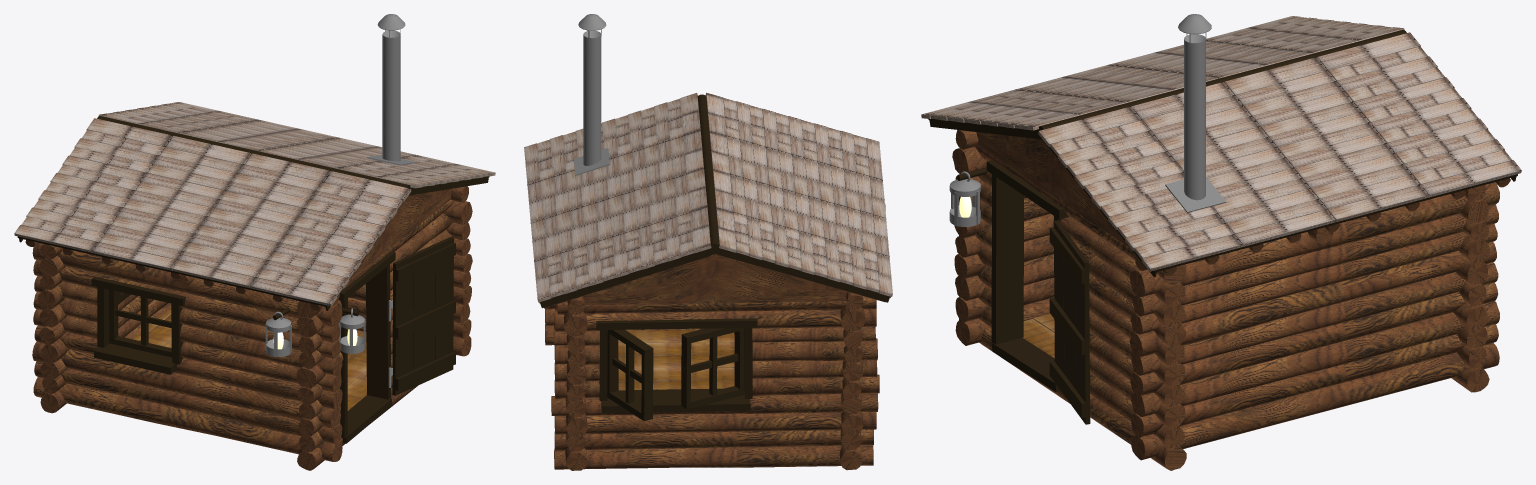
Rendered from cabin.glb.
3 views of the same model, side by side, from view 1: azimuth 30°, elevation 25°; view 2: azimuth 150°, elevation 25°; view 3: azimuth 270°, elevation 25° (orthographic). The views are drawn at different scales.
Parts seen in each view (by area): view 1: Object090_Dellis American Oak Tar 2 #118_0, Object086_Dellis American Oak Tar 2 #118_0, Object074_Dellis American Oak Tar 2 #118_0, Object088_Dellis American Oak Tar 2 #118_0, Object084_Dellis American Oak Tar 2 #118_0, Object095_Dark Stained Oak 3D Procedural #22_0, Object076_Dellis American Oak Tar 2 #118_0, Cylinder077, Object082_Dellis American Oak Tar 2 #118_0, Object080_Dellis American Oak Tar 2 #118_0, Box025, Box068 (+66 smaller); view 2: Box026, Object072_Dellis American Oak Tar 2 #118_0, Object068_Dellis American Oak Tar 2 #118_0, Object070_Dellis American Oak Tar 2 #118_0, Object056_Dellis American Oak Tar 2 #118_0, Object066_Dellis American Oak Tar 2 #118_0, Object054_Dellis American Oak Tar 2 #118_0, Cylinder077, Object110_Dellis American Oak Tar 2 #118_0, Object112_Dellis American Oak Tar 2 #118_0, Object115_Dark Stained Oak 3D Procedural #22_0, Object111_Dellis American Oak Tar 2 #118_0 (+98 smaller); view 3: Object052_Dellis American Oak Tar 2 #118_0, Object048_Dellis American Oak Tar 2 #118_0, Object042_Dellis American Oak Tar 2 #118_0, Object044_Dellis American Oak Tar 2 #118_0, Object036_Dellis American Oak Tar 2 #118_0, Object046_Dellis American Oak Tar 2 #118_0, Object038_Dellis American Oak Tar 2 #118_0, Object050_Dellis American Oak Tar 2 #118_0, Object040_Dellis American Oak Tar 2 #118_0, Object099_Dark Stained Oak 3D Procedural #22_0, Box025, Cylinder077 (+83 smaller).
Boxes of the visible parts, x1,y1,x2,y2 form: Object090_Dellis American Oak Tar 2 #118_0: (33,377,342,461); Object086_Dellis American Oak Tar 2 #118_0: (32,341,340,428); Object074_Dellis American Oak Tar 2 #118_0: (32,242,342,326); Object088_Dellis American Oak Tar 2 #118_0: (34,361,342,444); Object084_Dellis American Oak Tar 2 #118_0: (34,325,342,409); Object095_Dark Stained Oak 3D Procedural #22_0: (366,264,391,399); Object076_Dellis American Oak Tar 2 #118_0: (33,260,340,342); Cylinder077: (382,30,400,161); Object082_Dellis American Oak Tar 2 #118_0: (181,342,341,392); Object080_Dellis American Oak Tar 2 #118_0: (179,324,342,375); Box025: (349,188,451,280); Box068: (245,153,411,202); Box026: (582,256,847,305); Object072_Dellis American Oak Tar 2 #118_0: (554,445,873,469); Object068_Dellis American Oak Tar 2 #118_0: (554,412,876,434); Object070_Dellis American Oak Tar 2 #118_0: (554,429,873,450); Object056_Dellis American Oak Tar 2 #118_0: (554,308,876,331); Object066_Dellis American Oak Tar 2 #118_0: (551,393,878,415); Object054_Dellis American Oak Tar 2 #118_0: (557,296,876,314); Cylinder077: (583,30,601,165); Object110_Dellis American Oak Tar 2 #118_0: (752,338,877,361); Object112_Dellis American Oak Tar 2 #118_0: (752,374,879,395); Object115_Dark Stained Oak 3D Procedural #22_0: (601,388,750,413); Object111_Dellis American Oak Tar 2 #118_0: (752,360,877,378); Object052_Dellis American Oak Tar 2 #118_0: (1131,343,1499,460); Object048_Dellis American Oak Tar 2 #118_0: (1131,301,1499,416); Object042_Dellis American Oak Tar 2 #118_0: (1130,242,1496,357); Object044_Dellis American Oak Tar 2 #118_0: (1131,262,1498,375); Object036_Dellis American Oak Tar 2 #118_0: (1129,182,1499,296); Object046_Dellis American Oak Tar 2 #118_0: (1130,282,1498,396); Object038_Dellis American Oak Tar 2 #118_0: (1132,204,1498,316); Object050_Dellis American Oak Tar 2 #118_0: (1131,324,1498,437); Object040_Dellis American Oak Tar 2 #118_0: (1130,223,1497,334); Object099_Dark Stained Oak 3D Procedural #22_0: (991,174,1023,344); Box025: (976,132,1129,247); Cylinder077: (1184,34,1205,200).
Bounding box in the file's own units: 15474 × 12088 × 15525.
Materials: 8 (3 with a texture image).
